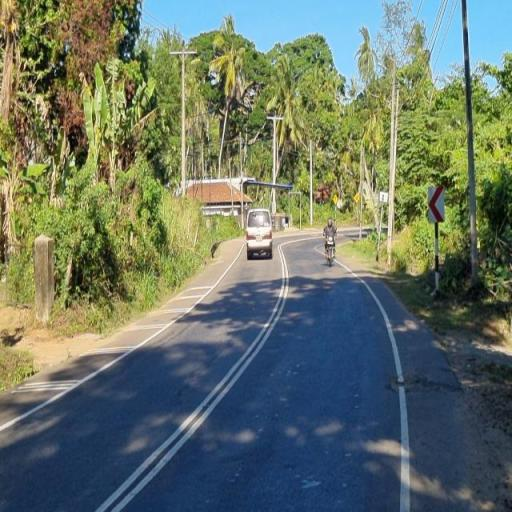double_white_line: (97, 237, 293, 512)
